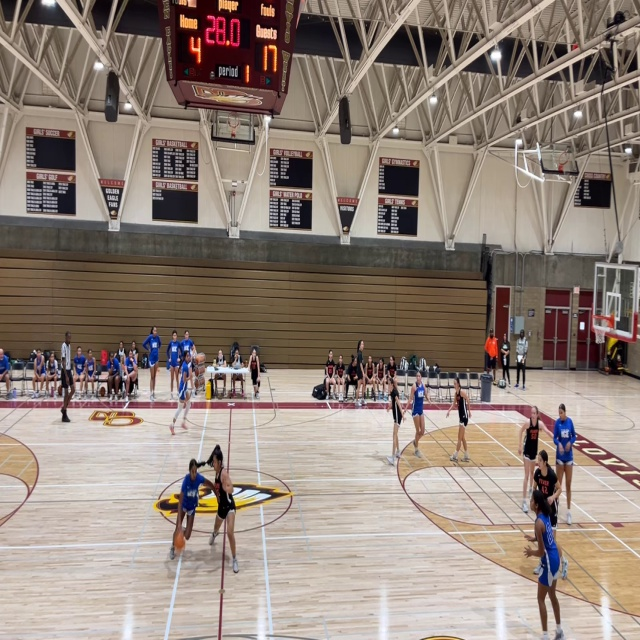Basketball: (174, 531, 186, 550)
